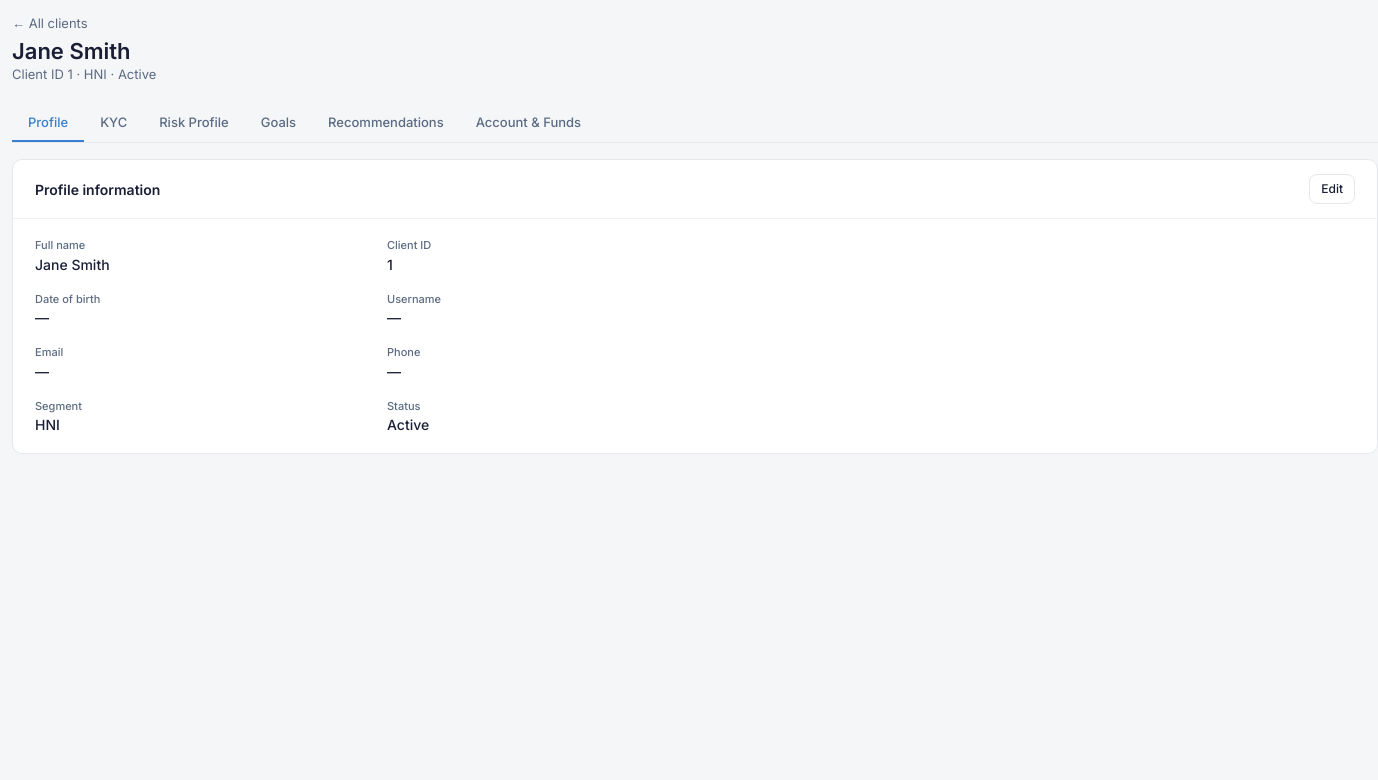
Scenario: ClientDetail page › switches to Recommendations tab and shows no recommendations
This screenshot has width=1378, height=780.
Step 1. Click the button "Recommendations" → (386, 123), box [312, 104, 460, 142]
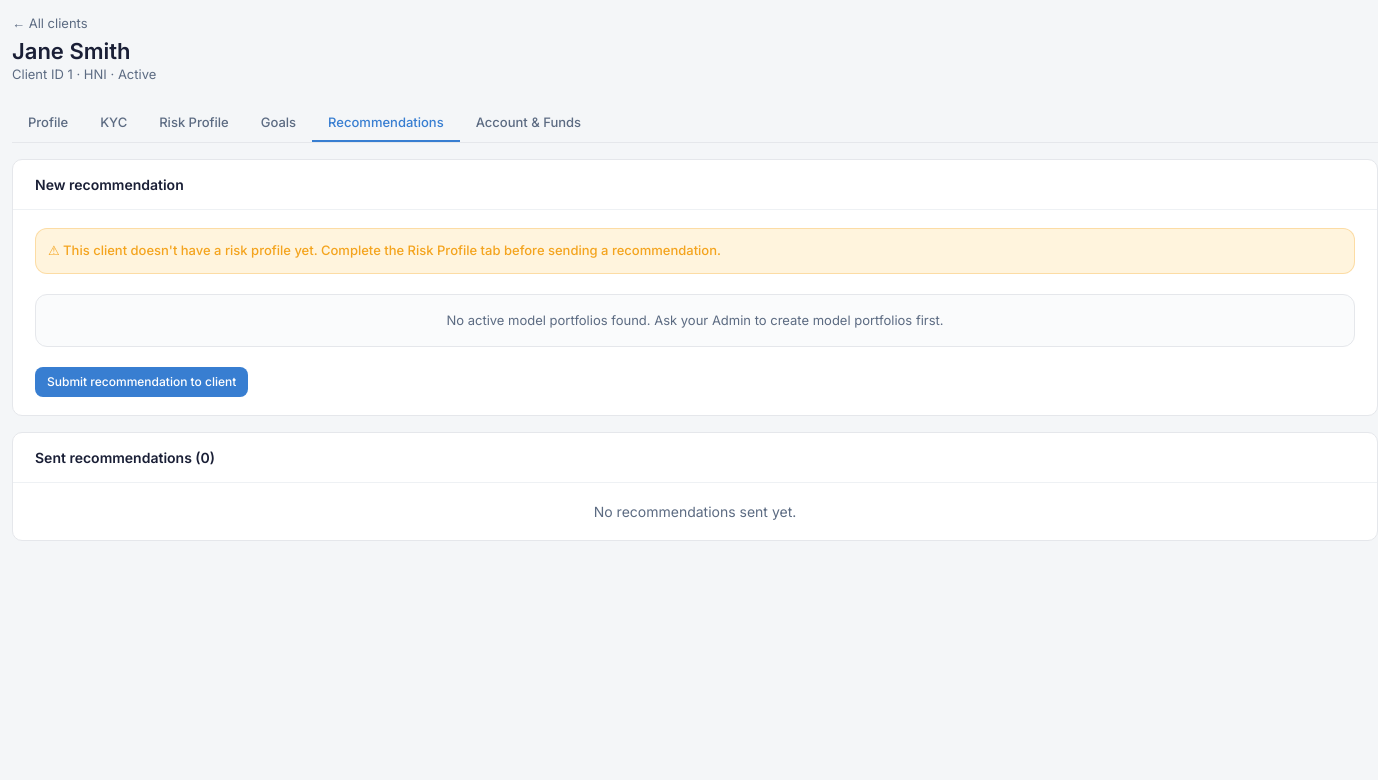
Expected: the text "No recommendations sent yet." is shown, [594, 503, 796, 520]
